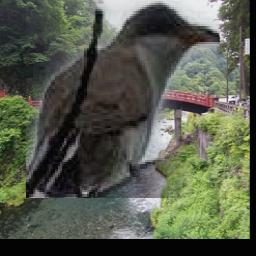Cuckoo: (27, 0, 221, 198)
